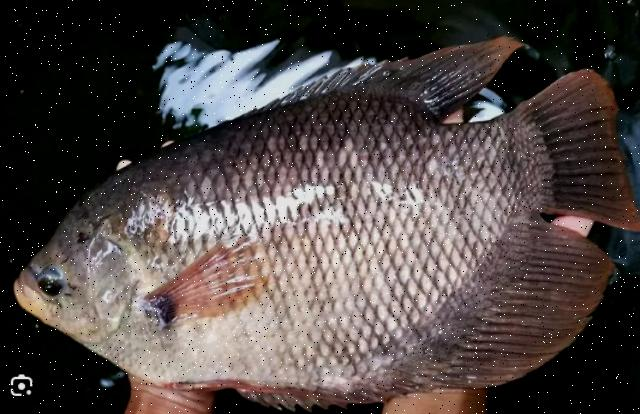Mulut: (5, 240, 94, 356)
Sirip Anal: (236, 213, 624, 414)
Sirip Dada: (124, 226, 300, 350)
Sirip Ekor: (494, 49, 640, 247)
Sirip Perut: (122, 364, 308, 414)
Sirip Punggung: (202, 24, 536, 130)
